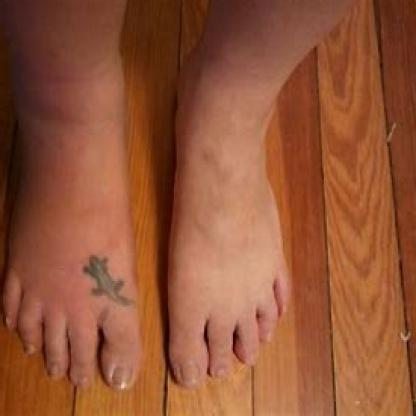Wasp: (17, 78, 121, 258)
